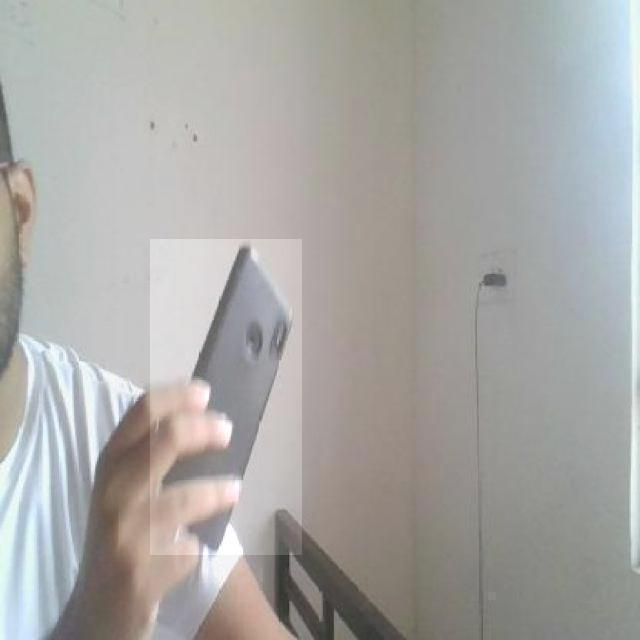mobile: (150, 240, 302, 556)
